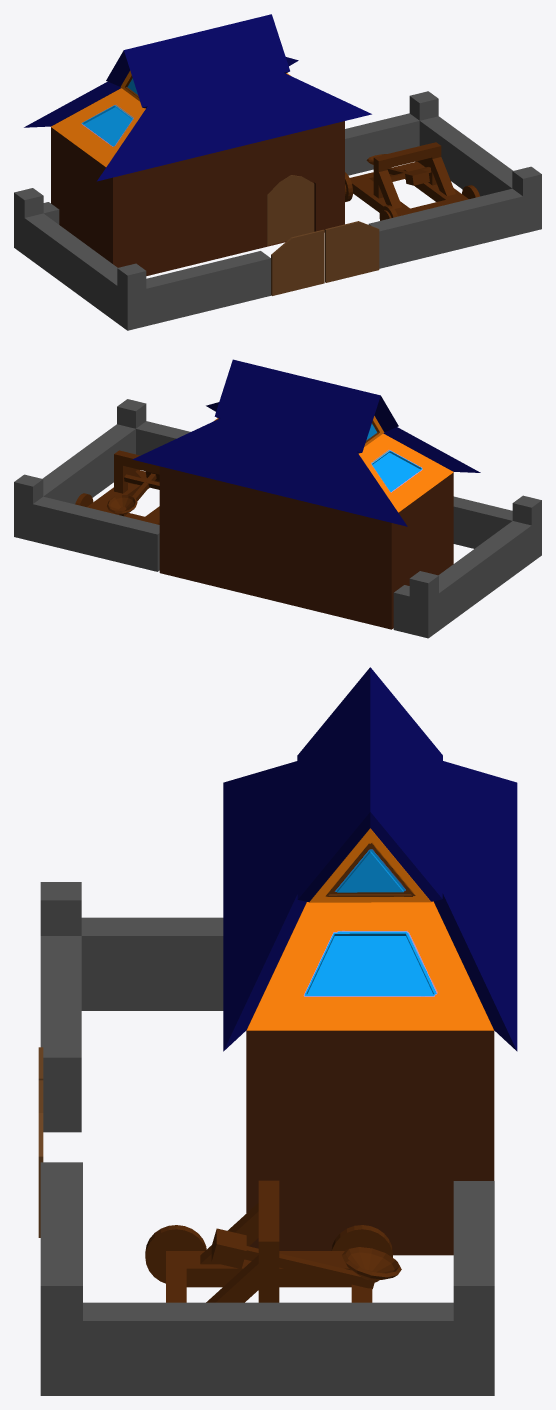
Rendered from SiegeWorkShop.fbx.
3 renders of one model, top to bottom at view 1: azimuth 30°, elevation 25°; view 2: azimuth 150°, elevation 25°; view 3: azimuth 270°, elevation 25°, orthographic. The views are drawn at different scales.
Parts seen in each view (by area): view 1: BuildingPrefab, Wall, Roof, FoundationPrefab, Gate, Frame, Attic, Door; view 2: BuildingPrefab, Roof, Wall, FoundationPrefab, Attic, Frame; view 3: Roof, Wall, BuildingPrefab, Attic, FoundationPrefab, Frame, Gate.
Part boxes in pixels (x1,y1,x2,y2): BuildingPrefab: (51, 121, 344, 275); Wall: (14, 91, 541, 330); Roof: (24, 14, 371, 181); FoundationPrefab: (14, 96, 522, 288); Gate: (271, 221, 379, 295); Frame: (345, 142, 479, 220); Attic: (51, 70, 290, 166); Door: (267, 175, 314, 245); BuildingPrefab: (159, 466, 453, 629); Roof: (132, 359, 480, 526); Wall: (14, 399, 541, 638); FoundationPrefab: (14, 404, 541, 635); Attic: (214, 416, 453, 512); Frame: (75, 450, 159, 524); Roof: (223, 667, 517, 1051); Wall: (40, 882, 494, 1395); BuildingPrefab: (246, 1030, 494, 1255); Attic: (246, 828, 493, 1030); FoundationPrefab: (40, 882, 223, 1132); Frame: (145, 1180, 401, 1302); Gate: (38, 1047, 43, 1237).
Size of the model in its own units: 2318 by 1080 by 1159.
